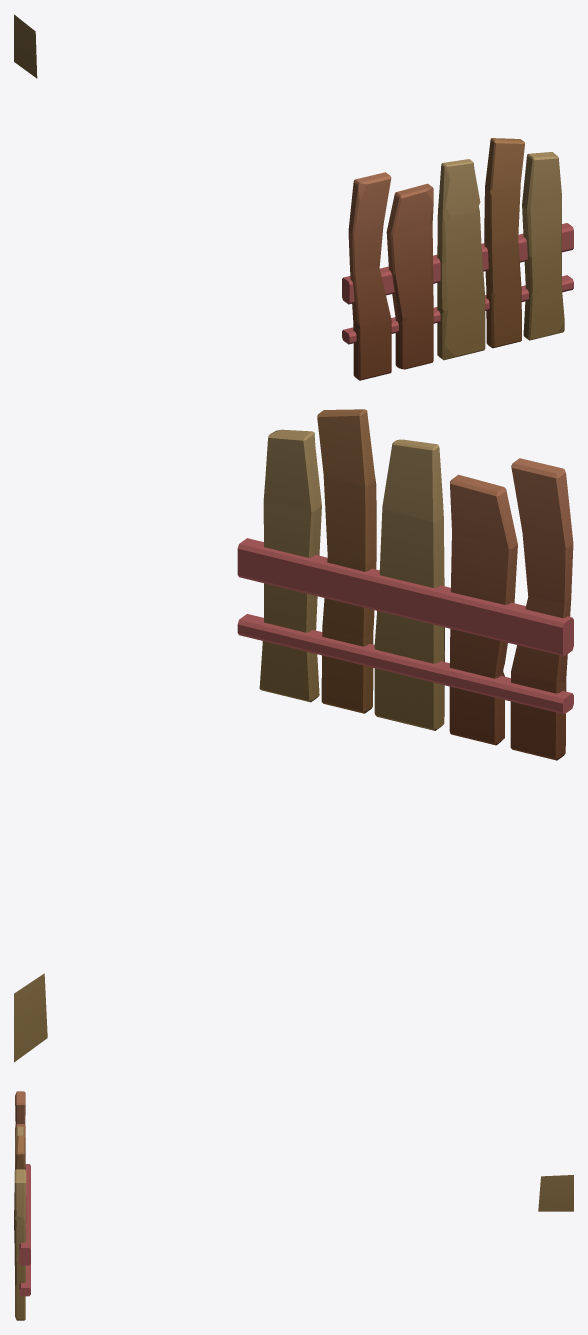
File: pagar9.fbx
The picture shows the model from 3 angles, top to bottom: view 1: azimuth 30°, elevation 25°; view 2: azimuth 150°, elevation 25°; view 3: azimuth 270°, elevation 25°; orthographic projection. The views are drawn at different scales.
Visible parts, largest first — view 1: Pagar fix.009; view 2: Pagar fix.009; view 3: Pagar fix.009.
Part boxes in pixels (left/top/right/bottom): Pagar fix.009: left=14, top=14, right=573, bottom=380; Pagar fix.009: left=14, top=409, right=573, bottom=1062; Pagar fix.009: left=14, top=1091, right=573, bottom=1320.
Size of the model in its own units: 178 by 158 by 502.
1 material, 1 textured.
